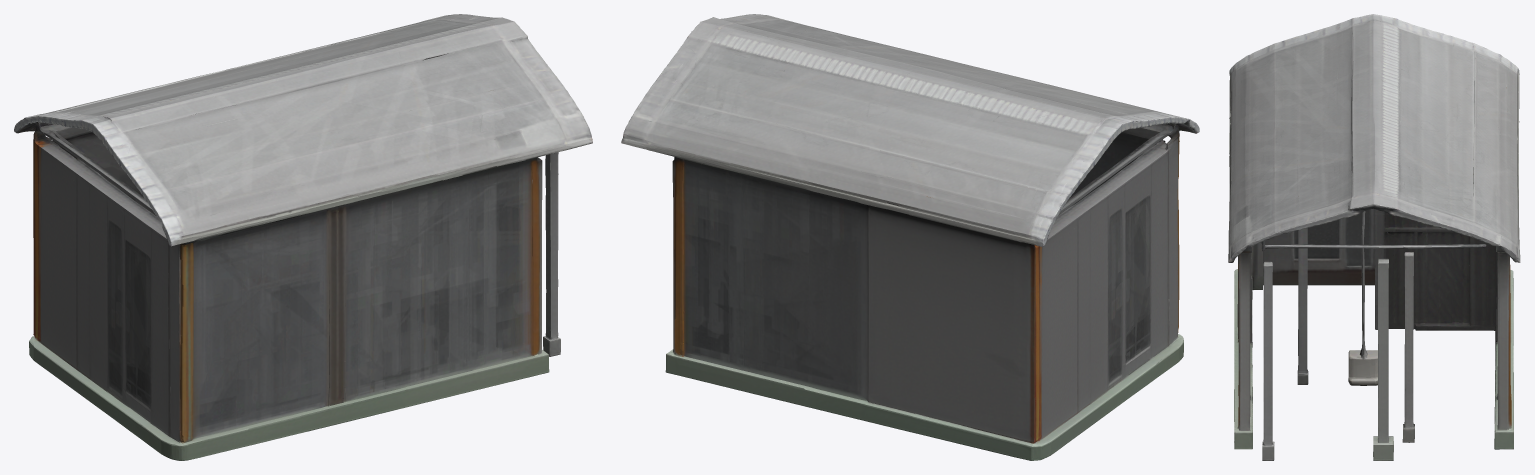
Rendered from bus_stop.glb.
3 renders of one model, left to right at view 1: azimuth 30°, elevation 25°; view 2: azimuth 150°, elevation 25°; view 3: azimuth 270°, elevation 25°, orthographic. The views are drawn at different scales.
Parts seen in each view (by area): view 1: world; view 2: world; view 3: world.
Boxes of the visible parts, x1=… form: world: x1=14, y1=14, x2=592, y2=460; world: x1=621, y1=14, x2=1199, y2=460; world: x1=1228, y1=14, x2=1520, y2=460.
Size of the model in its own units: 1 by 0.6533 by 0.6495.
Materials: 1 (1 with a texture image).
